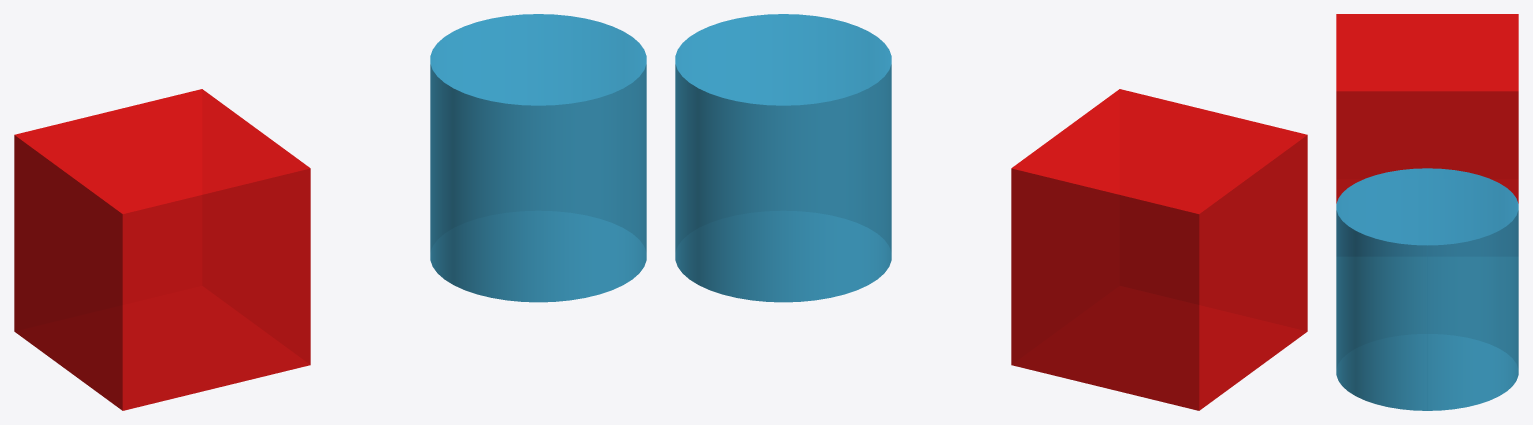
The picture shows the model from 3 angles, left to right: view 1: azimuth 30°, elevation 25°; view 2: azimuth 150°, elevation 25°; view 3: azimuth 270°, elevation 25°; orthographic projection. The views are drawn at different scales.
Parts seen in each view (by area): view 1: mybox, mycyl; view 2: mybox, mycyl; view 3: mycyl, mybox.
Part boxes in pixels (box(x1,y1,x2,y2)): mybox: box(14, 89, 310, 410); mycyl: box(430, 14, 646, 302); mybox: box(1011, 89, 1307, 410); mycyl: box(675, 14, 891, 302); mycyl: box(1336, 168, 1518, 410); mybox: box(1336, 14, 1518, 203).
Size of the model in its own units: 60 by 20 by 20.
